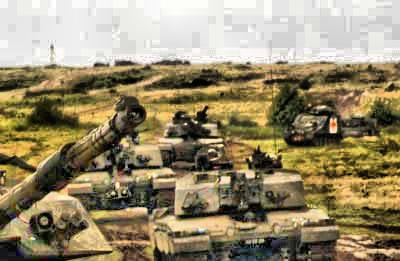tanks: (1, 101, 145, 261), (151, 162, 339, 261)
